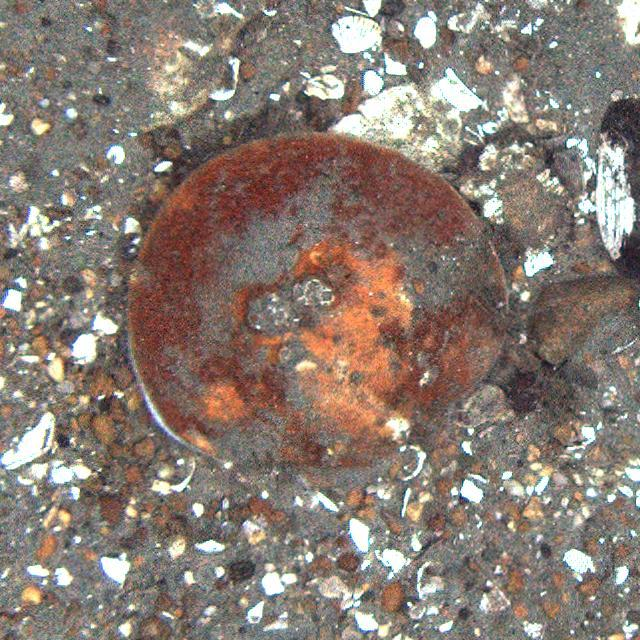scallop: (124, 129, 513, 480)
